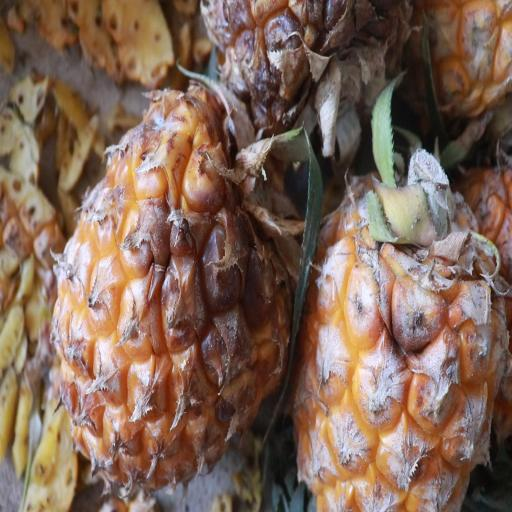Pineapple - v8 v1: (49, 72, 292, 497), (290, 154, 512, 512)
